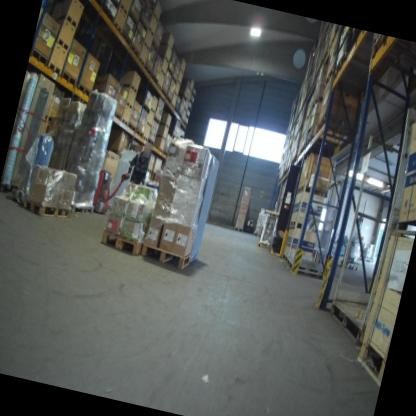pallet: (351, 336, 389, 387), (141, 240, 193, 271), (98, 227, 146, 259), (23, 198, 70, 220), (284, 257, 325, 280), (389, 212, 416, 241), (64, 200, 95, 220), (370, 34, 391, 61), (53, 10, 81, 30), (296, 184, 329, 199), (58, 68, 81, 89), (50, 35, 73, 56), (333, 51, 348, 80), (288, 220, 319, 234), (306, 96, 324, 119), (29, 49, 52, 66), (302, 132, 318, 155), (117, 30, 133, 50), (316, 116, 332, 135), (45, 60, 64, 76), (118, 81, 139, 94), (75, 82, 93, 97), (116, 1, 131, 18), (324, 63, 335, 85), (340, 260, 360, 272), (127, 45, 141, 62), (111, 20, 125, 36), (255, 240, 270, 251), (158, 52, 171, 64), (136, 56, 147, 70), (149, 74, 160, 85), (158, 121, 170, 131), (146, 25, 155, 38), (124, 100, 135, 110), (126, 123, 137, 133), (134, 128, 145, 138), (142, 65, 154, 74), (119, 117, 130, 126), (156, 132, 167, 141), (151, 13, 160, 23), (281, 252, 289, 263), (142, 41, 150, 52), (148, 107, 156, 118), (154, 82, 163, 91), (163, 95, 172, 104), (160, 69, 167, 80), (160, 89, 168, 98), (144, 118, 152, 127), (233, 226, 243, 233), (156, 146, 164, 154), (252, 231, 261, 238), (145, 167, 153, 174), (175, 79, 182, 87), (162, 150, 169, 158), (141, 136, 149, 142), (173, 90, 179, 98), (179, 67, 185, 75), (170, 102, 176, 110), (176, 113, 183, 119), (180, 117, 186, 123), (173, 108, 179, 114), (183, 121, 188, 128)
pallet_truck: (91, 164, 133, 222)
